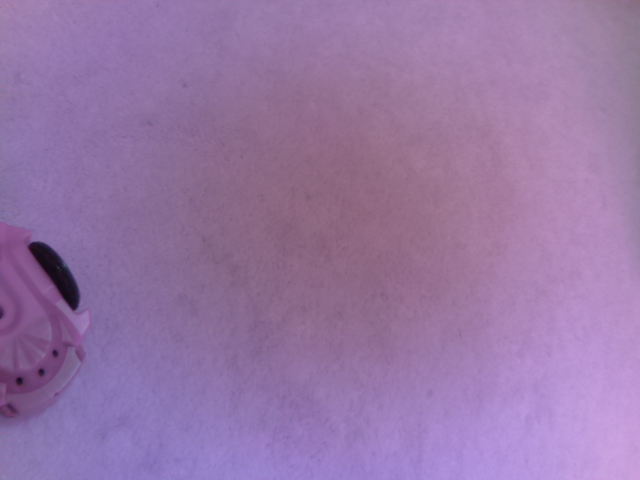chassis: (1, 210, 91, 425)
